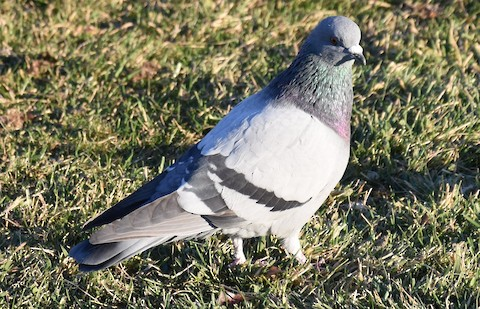pigeon: (71, 14, 367, 284)
